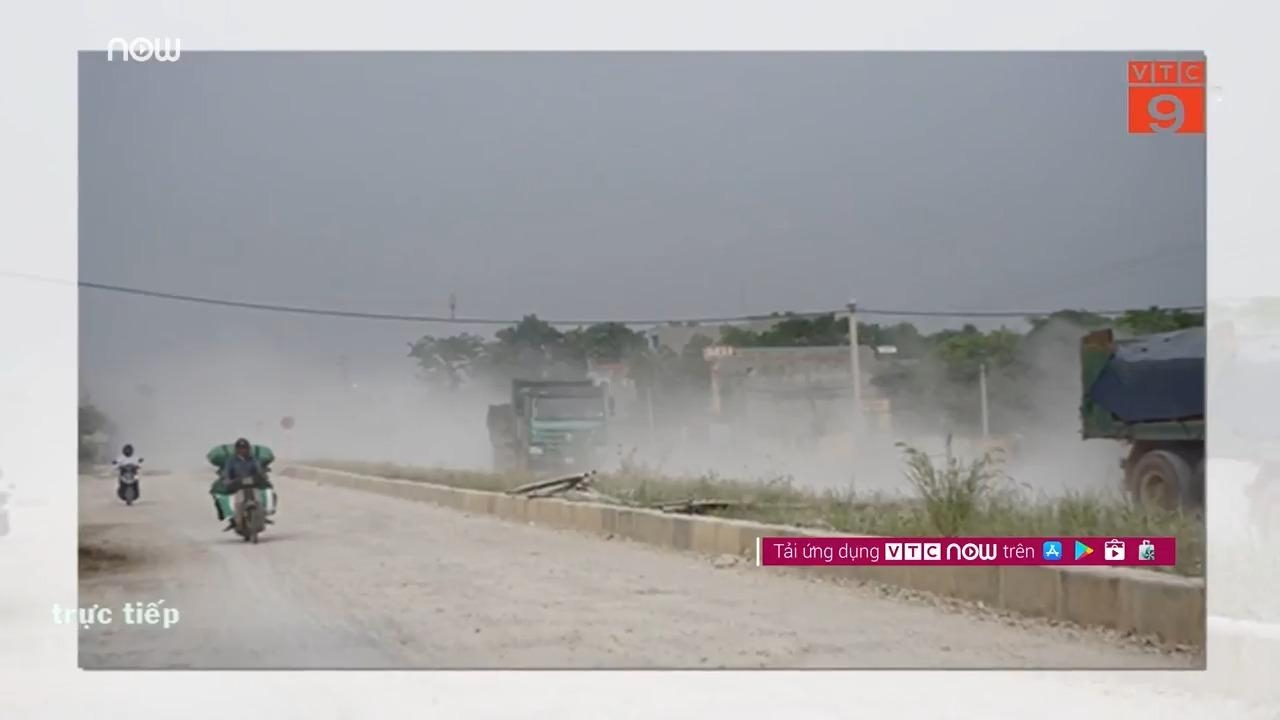motorcycle: (211, 462, 276, 543), (111, 456, 144, 505)
truck: (1077, 323, 1205, 516), (485, 376, 614, 474)
